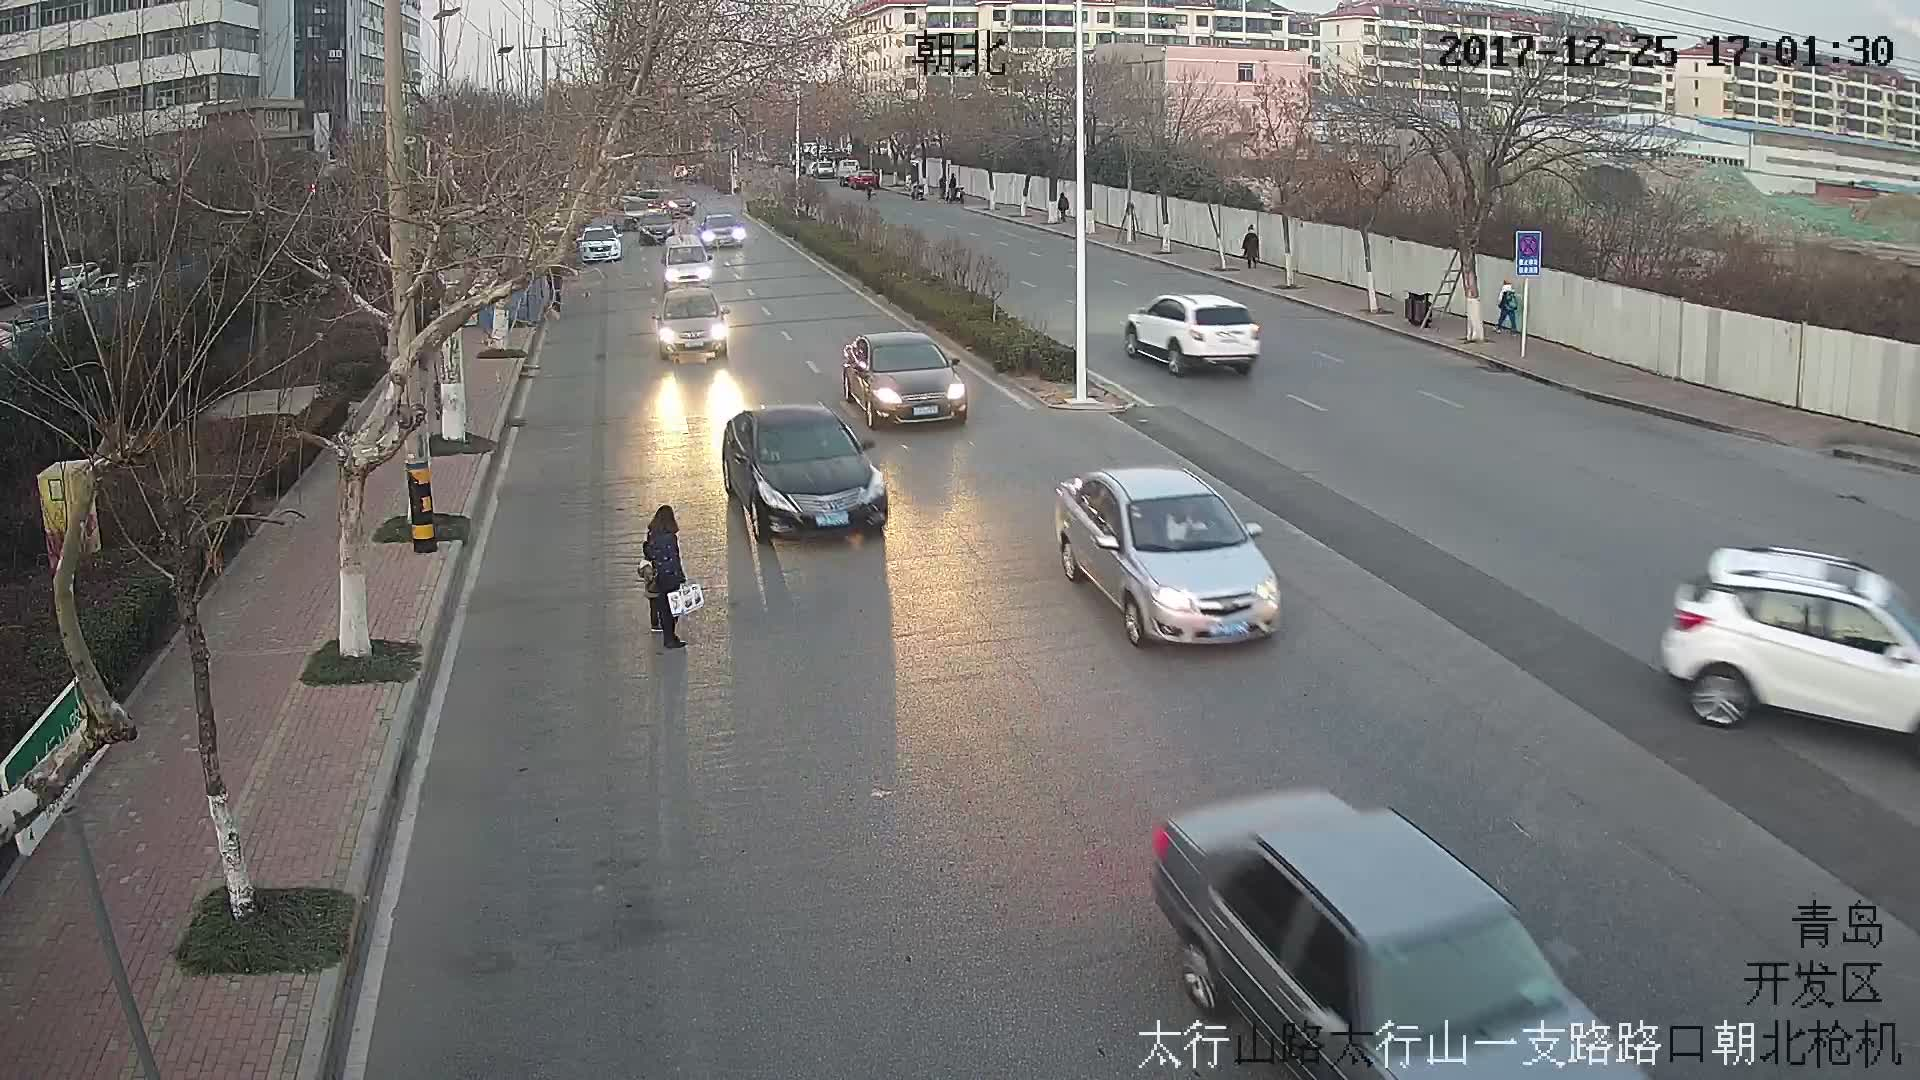car: (1666, 542, 1917, 738), (1050, 467, 1289, 653), (724, 405, 891, 535), (842, 332, 968, 427), (1127, 295, 1262, 371), (659, 288, 727, 359), (664, 237, 716, 287), (580, 225, 624, 264), (702, 217, 745, 246)
person: (635, 507, 702, 649), (1493, 280, 1517, 334), (1241, 223, 1262, 267)
